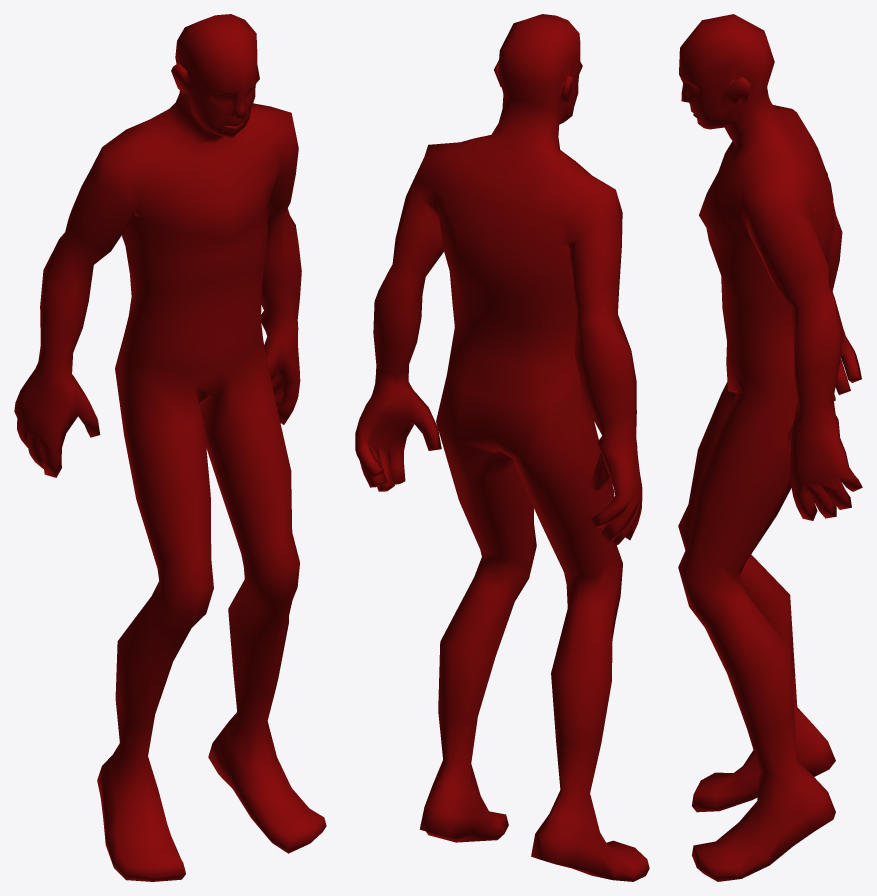
The model's file is attack_0.obj.
The picture shows the model from 3 angles, left to right: view 1: azimuth 30°, elevation 25°; view 2: azimuth 150°, elevation 25°; view 3: azimuth 270°, elevation 25°; orthographic projection. The views are drawn at different scales.
Parts seen in each view (by area): view 1: Low_Poly_Characte.000_Mesh.001; view 2: Low_Poly_Characte.000_Mesh.001; view 3: Low_Poly_Characte.000_Mesh.001.
Part boxes in pixels (left/top/right/bottom): Low_Poly_Characte.000_Mesh.001: left=14, top=14, right=326, bottom=881; Low_Poly_Characte.000_Mesh.001: left=355, top=14, right=649, bottom=881; Low_Poly_Characte.000_Mesh.001: left=678, top=14, right=862, bottom=881.
Bounding box in the file's own units: 1.07 × 3.11 × 0.6371.
